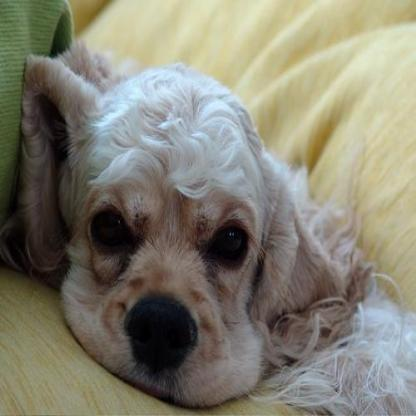cocker_spaniel: (15, 36, 414, 414)
